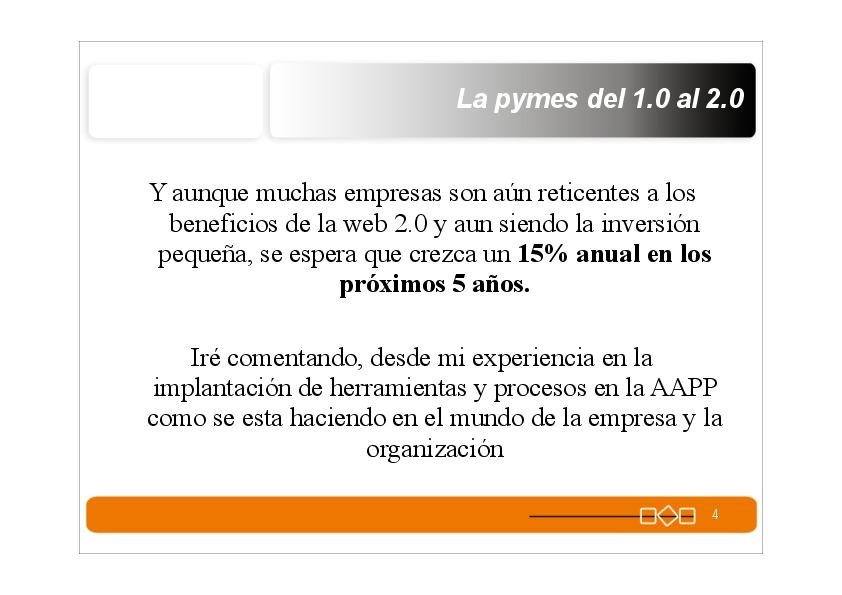paragraph: (123, 165, 733, 473)
title: (446, 71, 752, 120)
